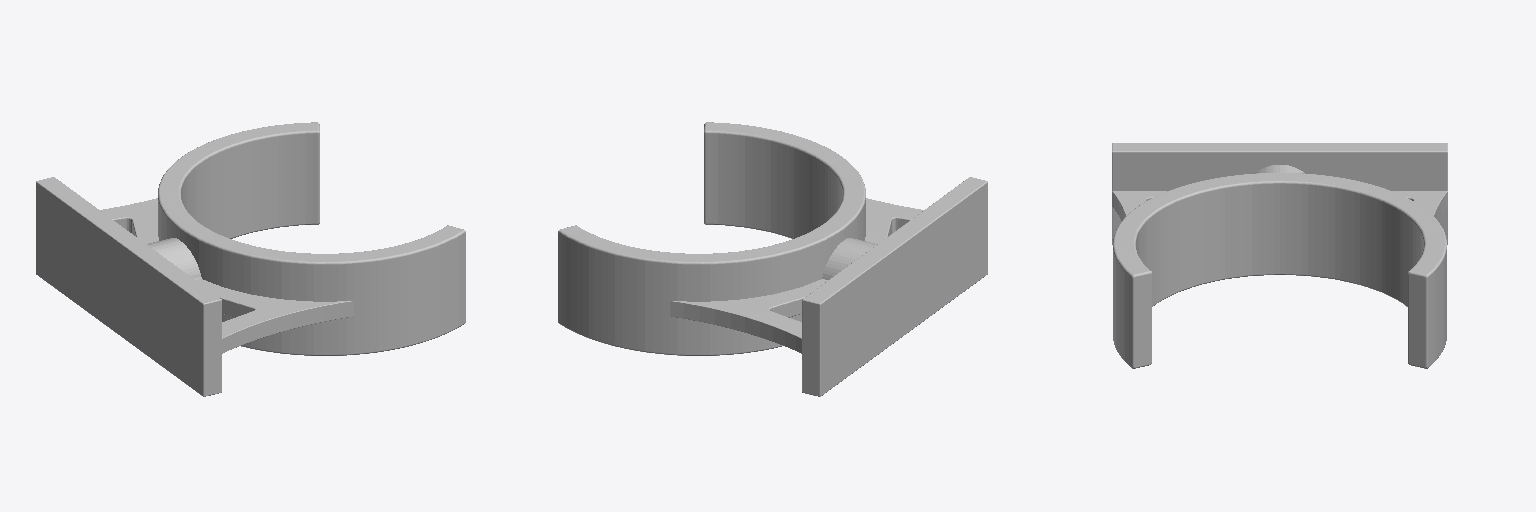
The model's file is uchytka sd.obj.
The picture shows the model from 3 angles: view 1: azimuth 30°, elevation 25°; view 2: azimuth 150°, elevation 25°; view 3: azimuth 270°, elevation 25°; orthographic projection.
Parts seen in each view (by area): view 1: uchytka05.001_Cube.003; view 2: uchytka05.001_Cube.003; view 3: uchytka05.001_Cube.003.
Part boxes in pixels (bbox=[...]): uchytka05.001_Cube.003: bbox=[36, 122, 465, 396]; uchytka05.001_Cube.003: bbox=[558, 122, 987, 396]; uchytka05.001_Cube.003: bbox=[1112, 143, 1447, 368].
Bounding box in the file's own units: 0.5464 × 0.18 × 0.5829.